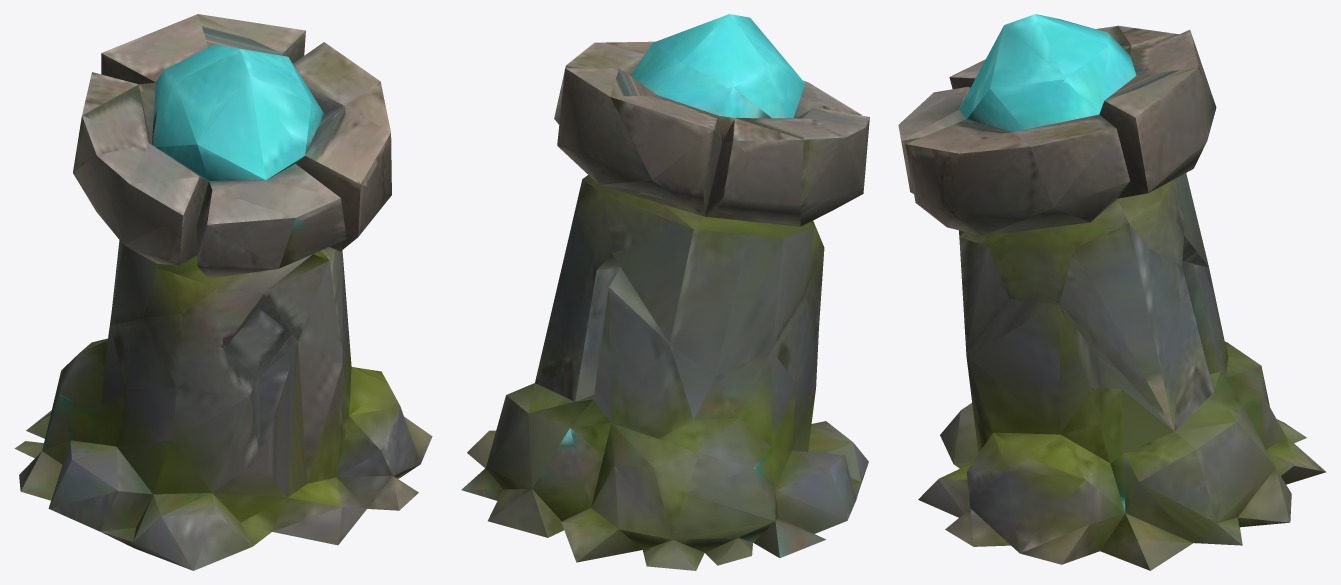
The model's file is receptor_runico_400.glb.
3 views of the same model, side by side, from view 1: azimuth 30°, elevation 25°; view 2: azimuth 150°, elevation 25°; view 3: azimuth 270°, elevation 25° (orthographic).
Visible parts, largest first — view 1: receptor_runico_malla; view 2: receptor_runico_malla; view 3: receptor_runico_malla.
Part boxes in pixels (x1=…): receptor_runico_malla: x1=14, y1=14, x2=432, y2=570; receptor_runico_malla: x1=461, y1=14, x2=869, y2=570; receptor_runico_malla: x1=898, y1=14, x2=1326, y2=570.
Size of the model in its own units: 0.2449 by 0.2963 by 0.2462.
1 material, 1 textured.
